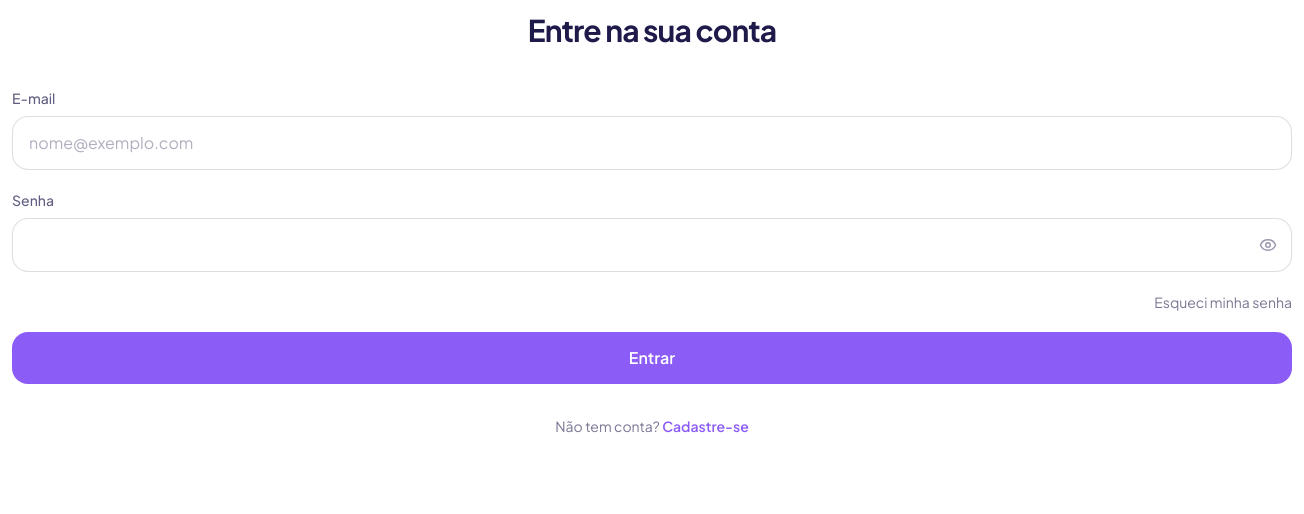
tela de login › mostra a mensagem de erro e não navega quando o login falha
In the field labelled "E-mail": (652, 143) [12,116,1292,170], type "teste@exemplo.com"
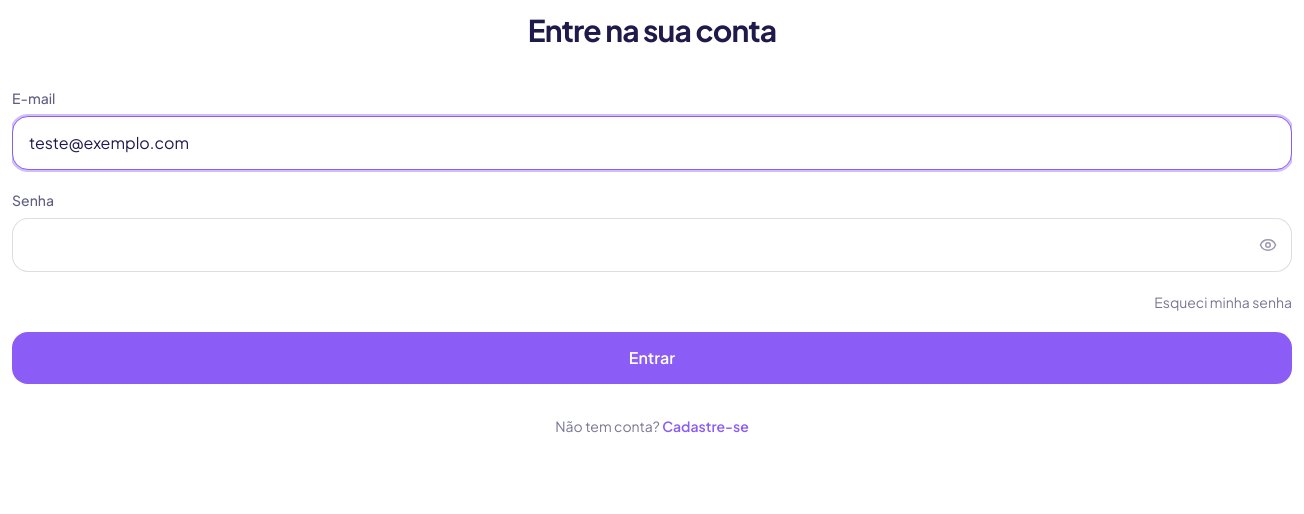
In the password field labelled "Senha": (652, 245) [12,218,1292,272], type "errada"
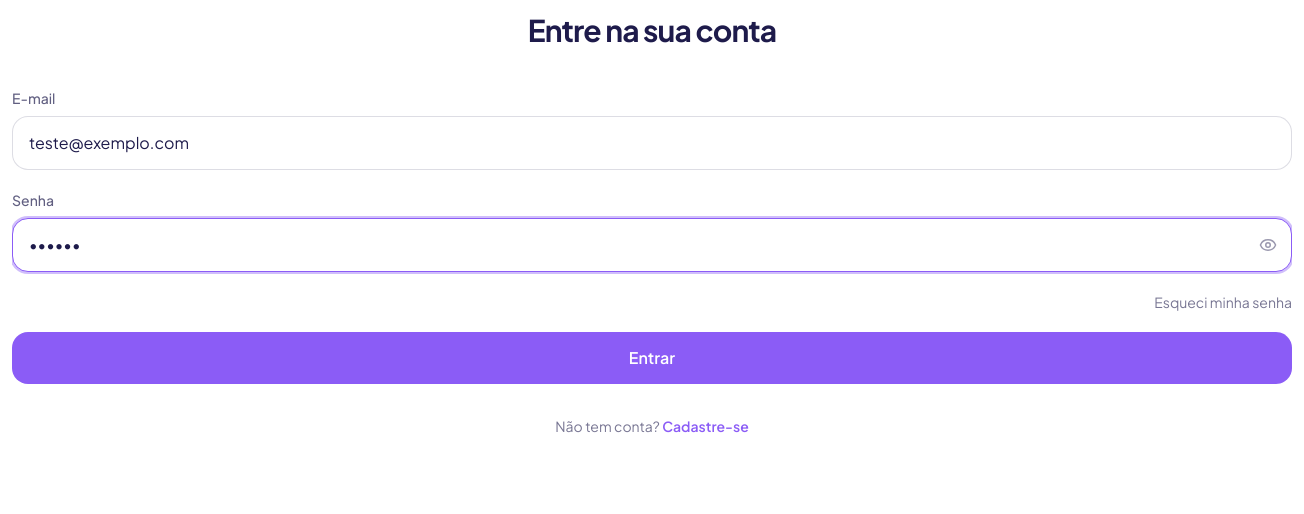
Click the button "Entrar": (652, 358) [12,332,1292,384]
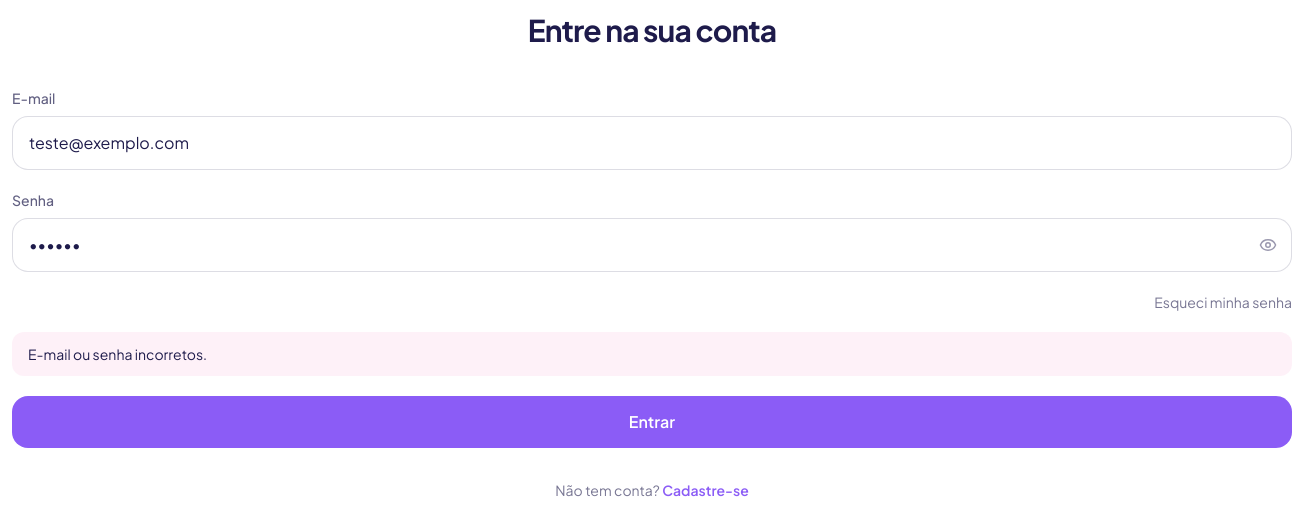
Check: the message reads "E-mail ou senha incorretos.", box [28,345,207,363]
